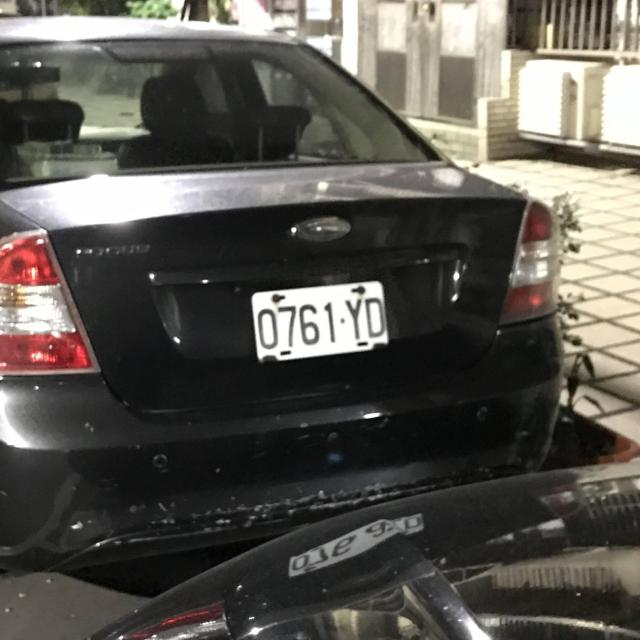W: (245, 274, 396, 370)
